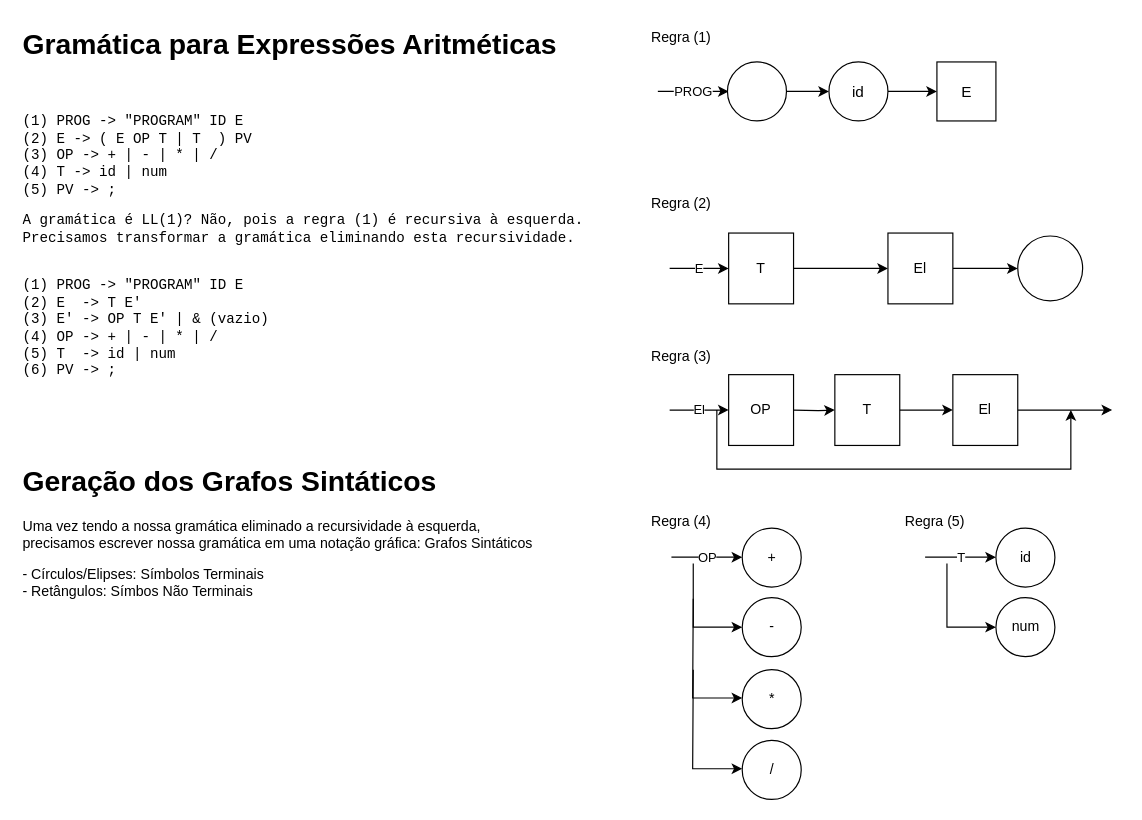
Some shapes in this 1142 by 820 pixel diagram are drawn without their labels. The centre of each missing label's shape, as x and y in pixels:
"PROGRAM" belongs at point (756, 91).
"PV" belongs at point (1050, 268).
